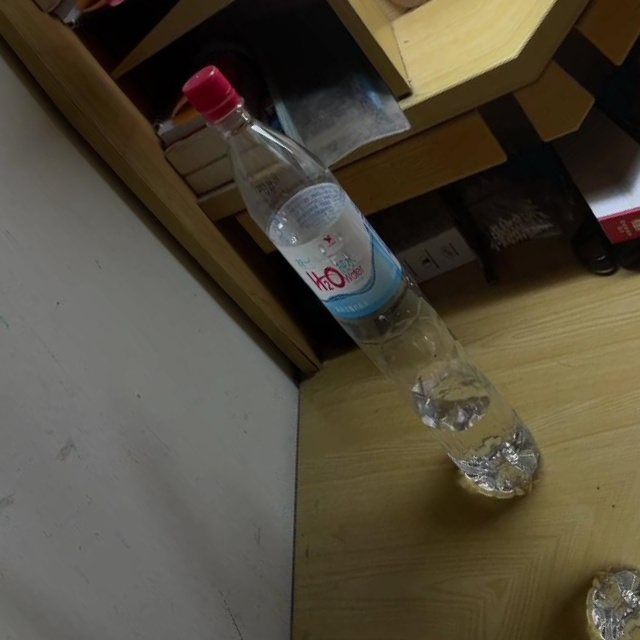Water: (153, 46, 573, 521)
